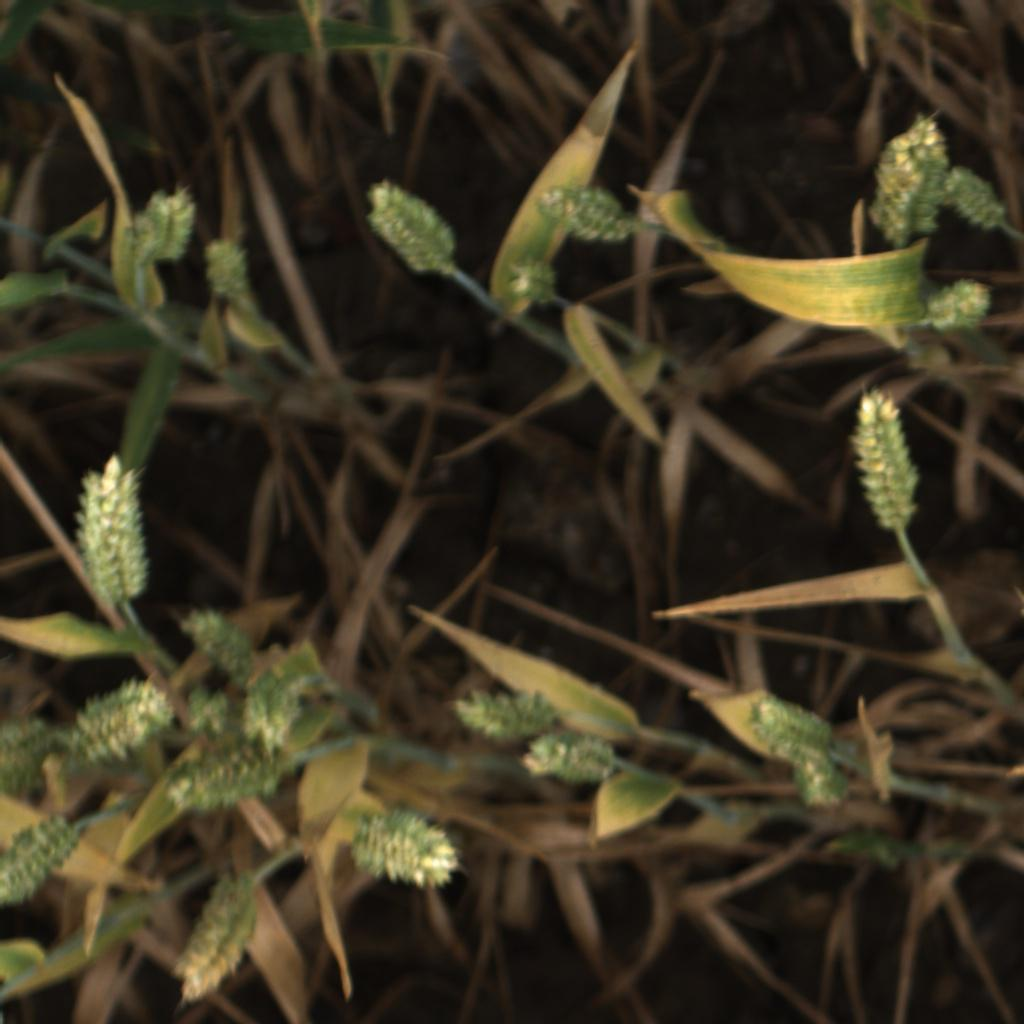0-0: (845, 383, 933, 532), (70, 448, 150, 610), (863, 116, 955, 245), (170, 879, 259, 1000), (0, 811, 101, 911), (66, 682, 177, 765), (362, 180, 455, 279), (739, 685, 842, 764), (353, 812, 461, 886), (528, 181, 638, 251), (168, 738, 279, 805), (173, 604, 266, 682), (129, 178, 203, 268), (235, 661, 307, 747), (447, 682, 545, 739), (946, 159, 1012, 236), (784, 751, 857, 820), (922, 272, 999, 336), (520, 733, 612, 786), (0, 709, 54, 798), (498, 253, 561, 312), (199, 240, 256, 300), (181, 680, 238, 737)
